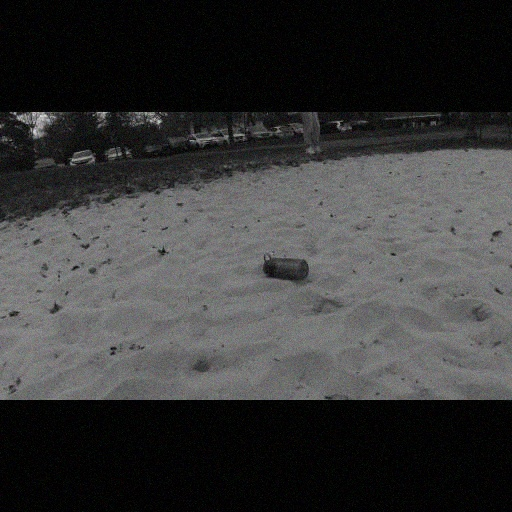bottle: (261, 253, 311, 283)
